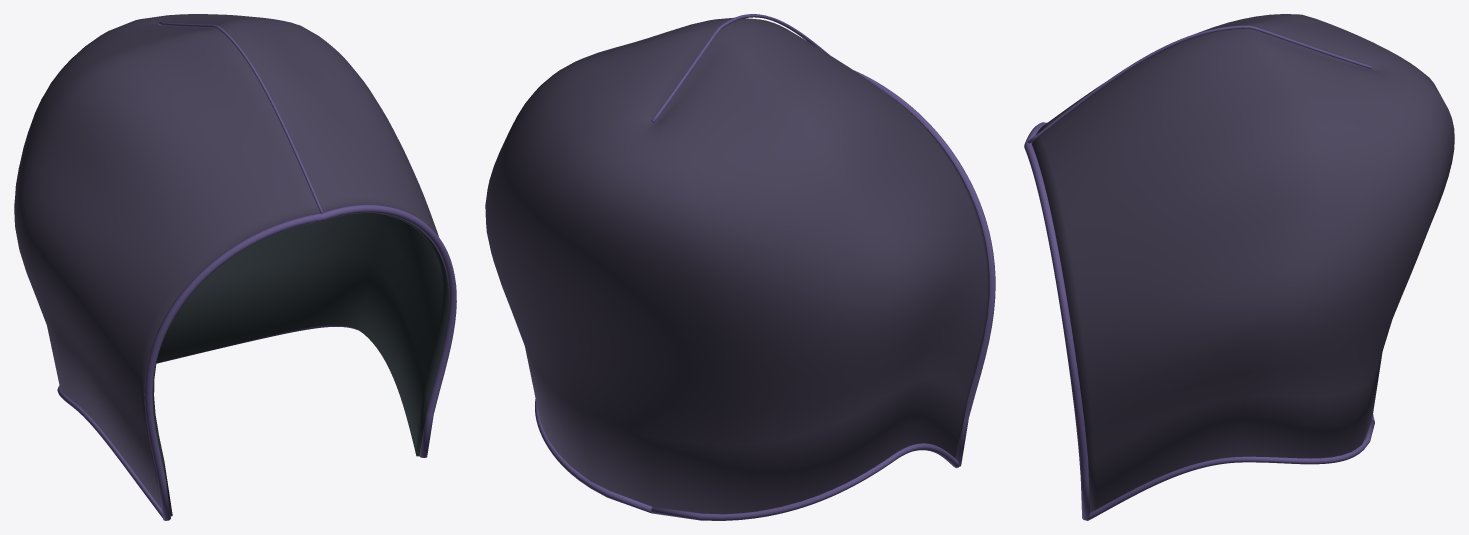
Rendered from shadow-hood.glb.
3 renders of one model, left to right at view 1: azimuth 30°, elevation 25°; view 2: azimuth 150°, elevation 25°; view 3: azimuth 270°, elevation 25°, orthographic. The views are drawn at different scales.
Parts seen in each view (by area): view 1: Continuous draped cloth hood, Thin sewn face binding, Tailored crown seam, Turned cloth lower edge; view 2: Continuous draped cloth hood, Thin sewn face binding, Turned cloth lower edge, Turned cloth lower edge.001, Tailored crown seam; view 3: Continuous draped cloth hood, Thin sewn face binding, Turned cloth lower edge.001, Tailored crown seam.
Part boxes in pixels (x1,y1,x2,y2): Continuous draped cloth hood: [14, 14, 448, 516]; Thin sewn face binding: [144, 204, 456, 520]; Tailored crown seam: [158, 22, 323, 213]; Turned cloth lower edge: [57, 362, 162, 517]; Continuous draped cloth hood: [485, 17, 989, 514]; Thin sewn face binding: [854, 70, 995, 466]; Turned cloth lower edge: [651, 443, 959, 520]; Turned cloth lower edge.001: [535, 399, 652, 513]; Tailored crown seam: [651, 14, 829, 123]; Continuous draped cloth hood: [1031, 14, 1454, 512]; Thin sewn face binding: [1024, 122, 1090, 520]; Turned cloth lower edge.001: [1087, 419, 1374, 520]; Tailored crown seam: [1027, 25, 1372, 143].
Size of the model in its own units: 0.7949 by 0.8547 by 0.7777.
